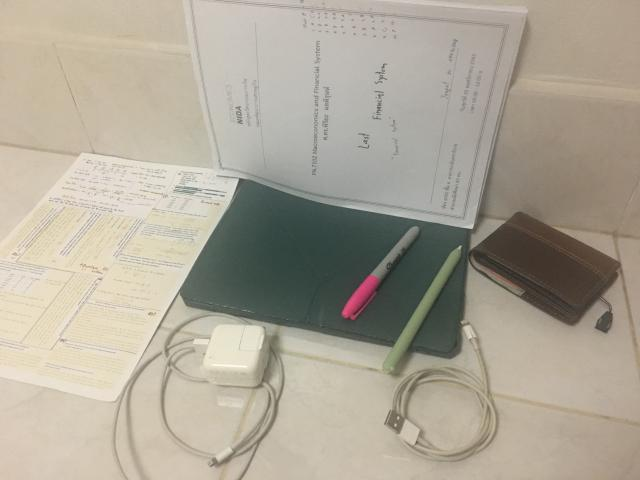Pen: (341, 226, 420, 320)
Wallet: (469, 212, 620, 324)
paper: (185, 0, 526, 229), (0, 154, 248, 400)
wire: (111, 312, 285, 479), (385, 320, 496, 461)
